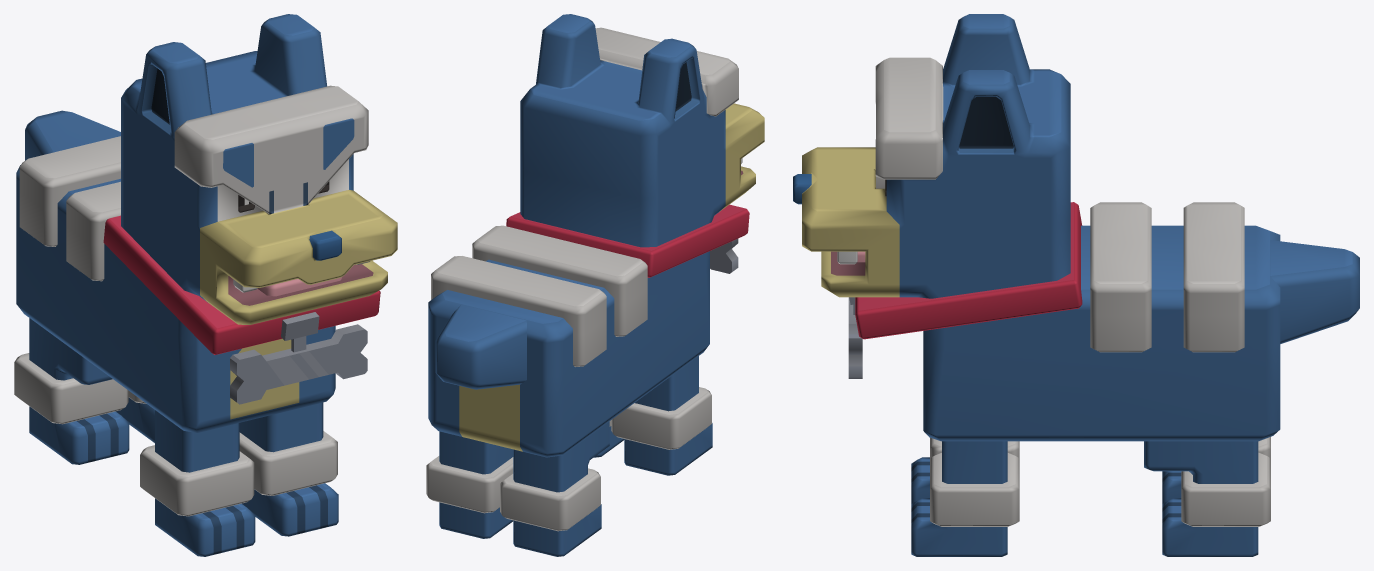
Rendered from PM197_BoneNecklace_R.fbx.
3 views of the same model, side by side, from view 1: azimuth 30°, elevation 25°; view 2: azimuth 150°, elevation 25°; view 3: azimuth 270°, elevation 25° (orthographic). The views are drawn at different scales.
Visible parts, largest first — view 1: model; view 2: model; view 3: model.
Part boxes in pixels (<box>): model: <box>14,14,397,556</box>; model: <box>426,14,764,556</box>; model: <box>793,14,1359,556</box>.
Bounding box in the file's own units: 0.7705 × 2 × 2.17.
